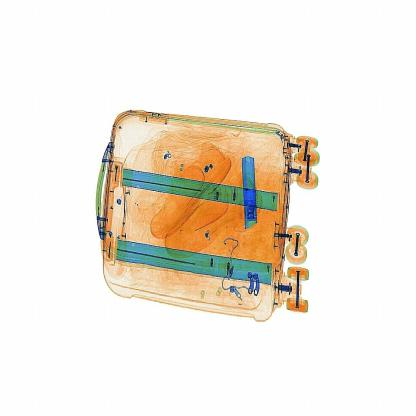pliers: (243, 156, 263, 230)
